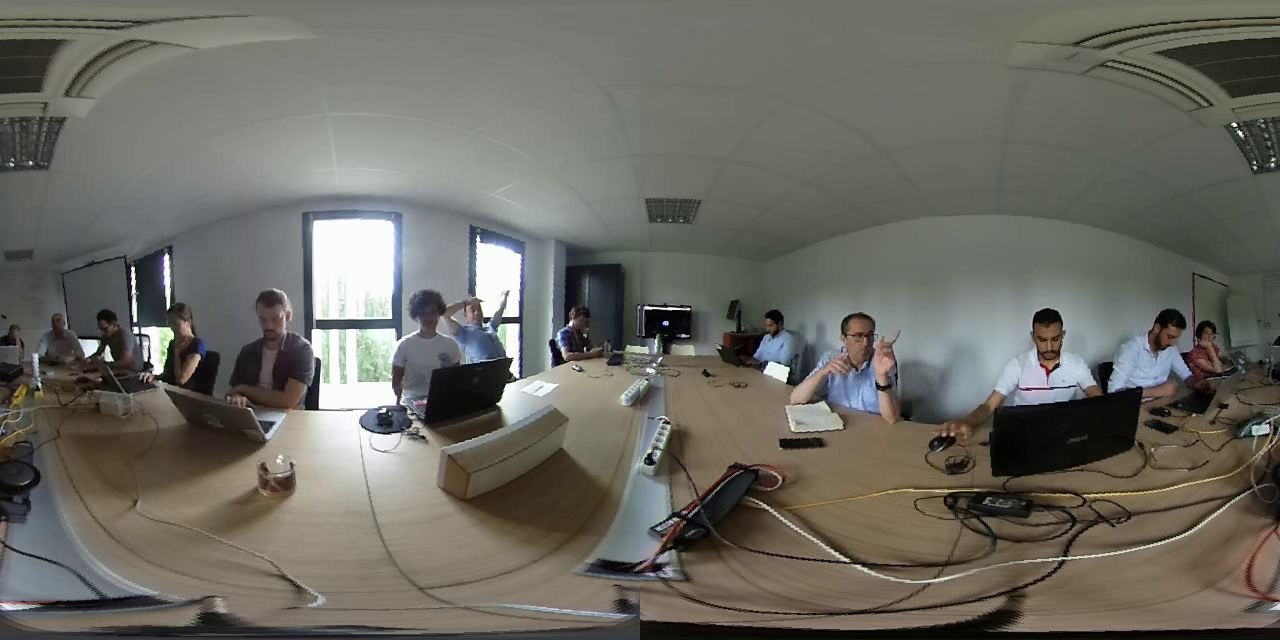person: (219, 275, 319, 405), (993, 300, 1098, 411), (808, 299, 906, 412), (1106, 285, 1189, 403), (379, 285, 453, 385), (453, 282, 525, 357), (1184, 285, 1234, 382), (149, 291, 203, 380), (84, 302, 144, 378), (745, 295, 799, 371), (548, 296, 603, 366), (33, 305, 79, 369), (2, 313, 26, 359)
